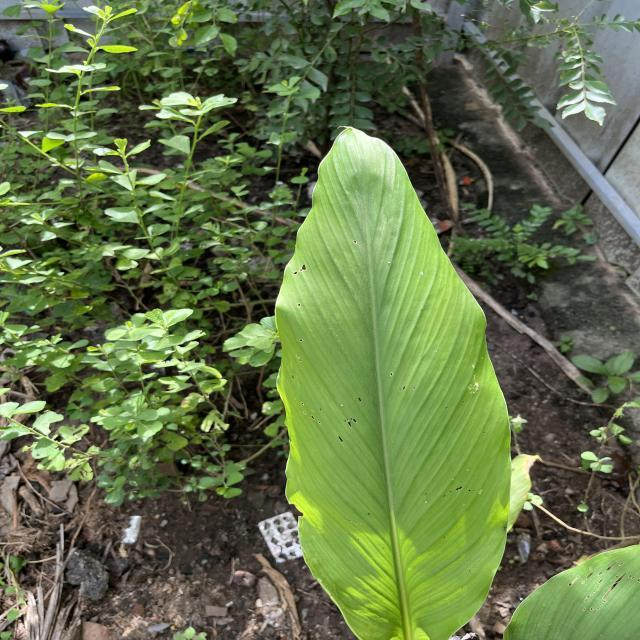Curcuma longa: (269, 118, 515, 640)
